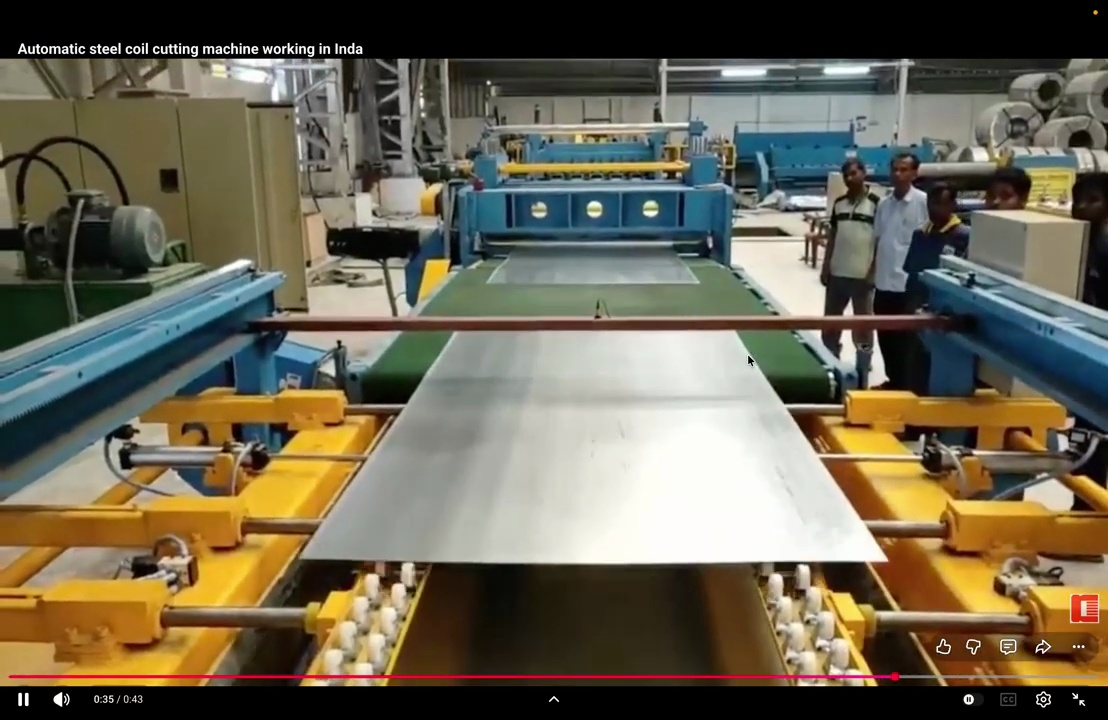steel plate: (303, 332, 883, 564), (488, 243, 698, 284)
